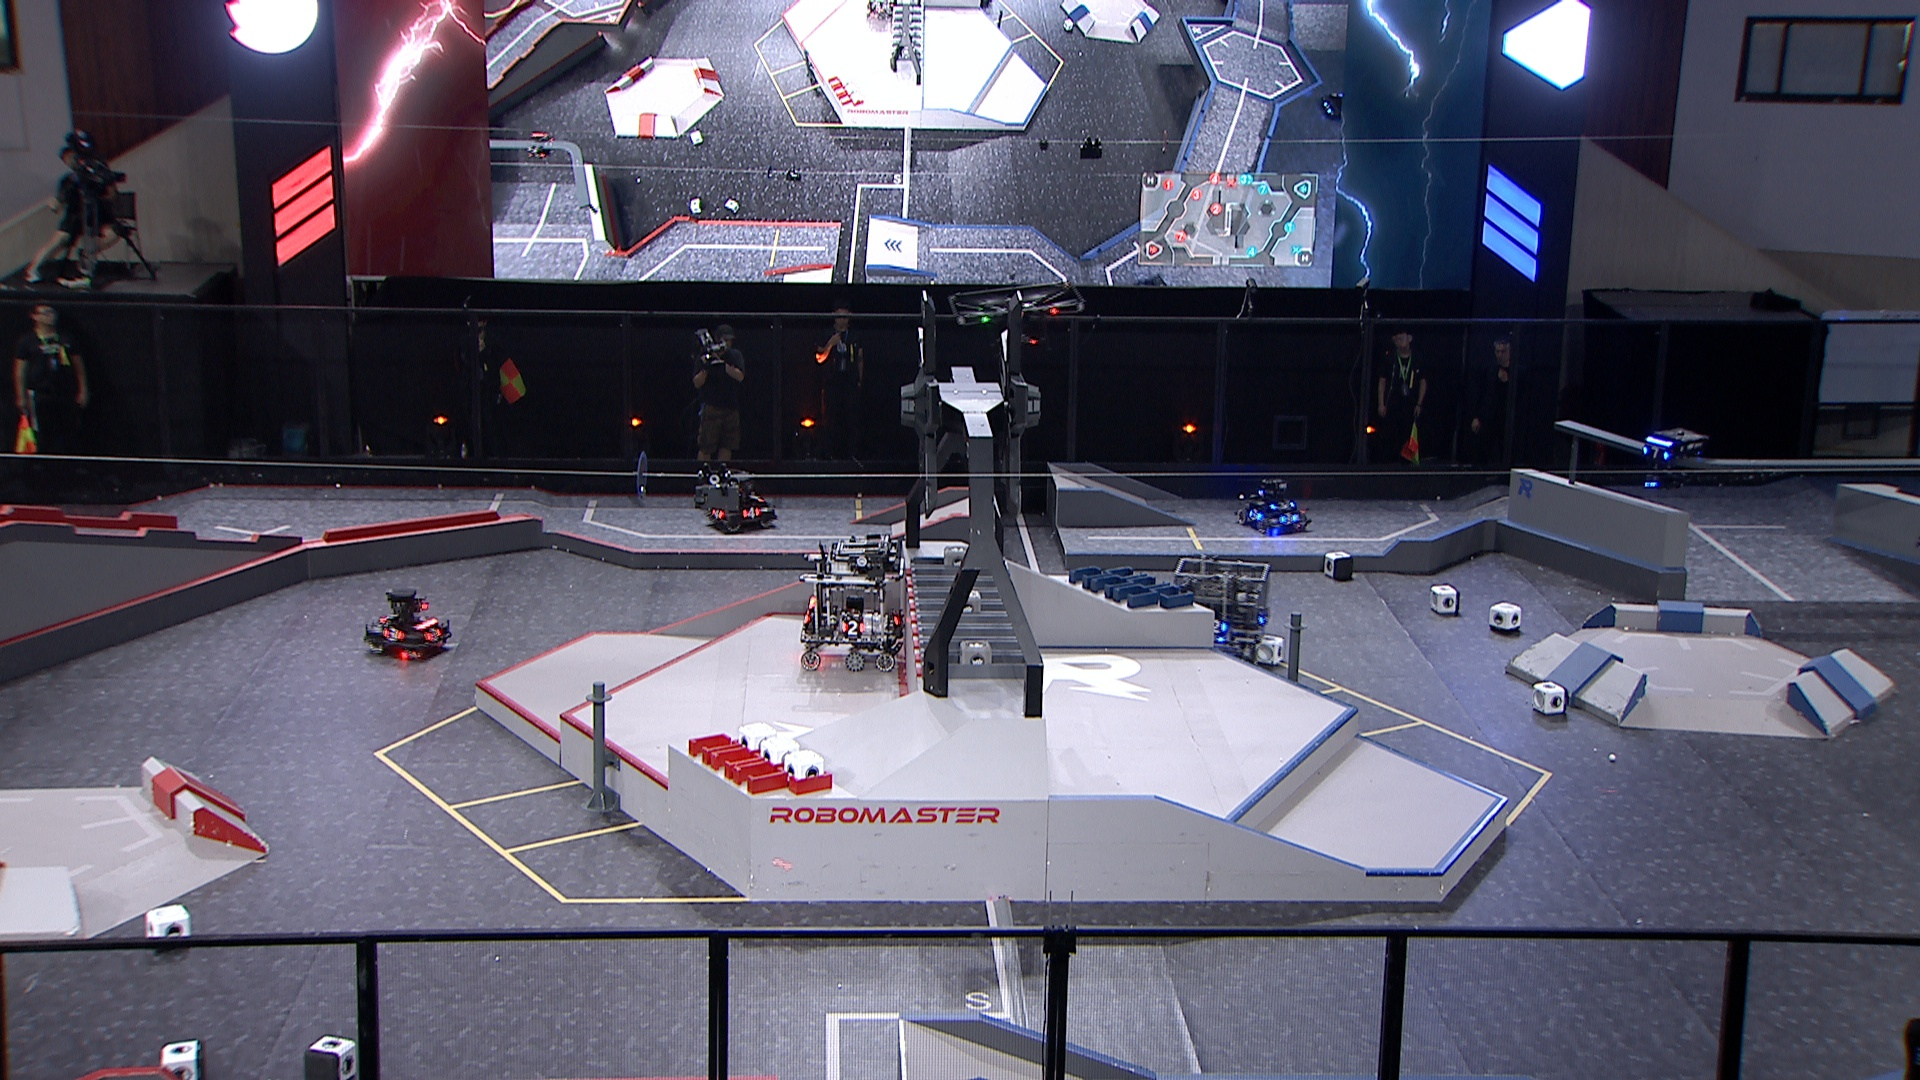armor: (1640, 444, 1671, 462), (382, 624, 406, 644), (841, 618, 868, 636), (1211, 617, 1230, 636), (1269, 498, 1295, 512), (740, 505, 764, 520), (425, 626, 443, 645), (1276, 513, 1299, 527), (1247, 506, 1265, 522), (708, 506, 727, 520), (746, 495, 765, 504)
car: (798, 534, 905, 674), (1168, 556, 1269, 673), (363, 585, 454, 659), (703, 469, 778, 537), (1233, 476, 1313, 533)
ignore: (526, 131, 553, 162), (1320, 90, 1344, 116), (866, 1, 899, 20)
watcher: (1640, 427, 1704, 489)
